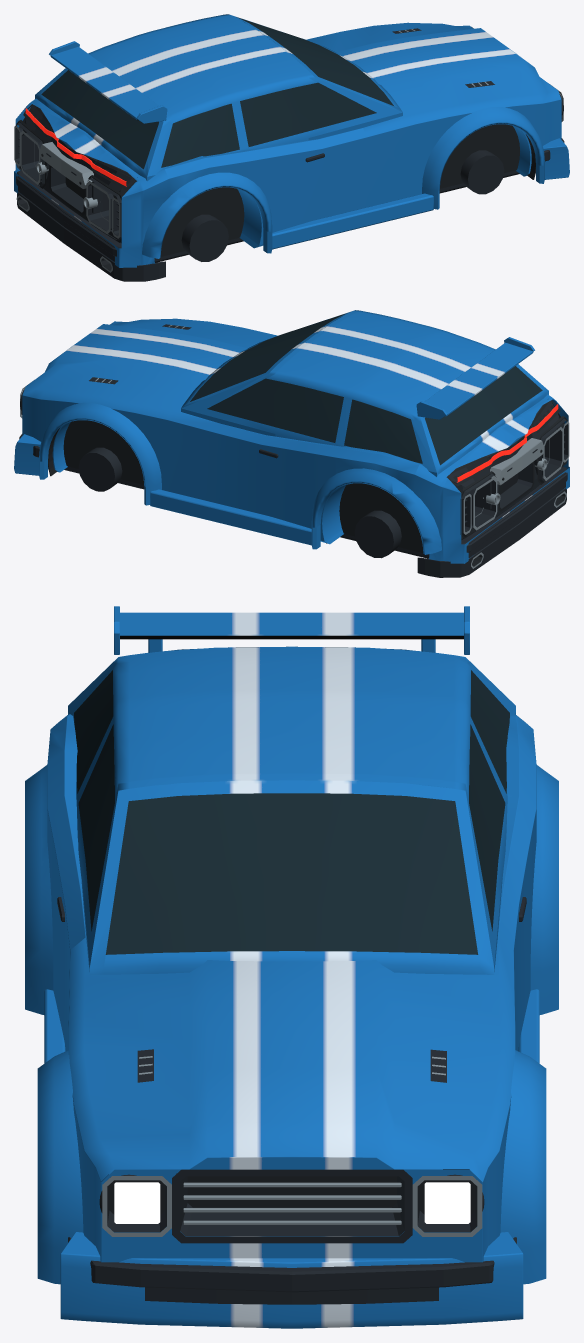
The model's file is fennec-body.glb.
3 views of the same model, one above another, from view 1: azimuth 30°, elevation 25°; view 2: azimuth 150°, elevation 25°; view 3: azimuth 270°, elevation 25° (orthographic). The views are drawn at different scales.
Parts seen in each view (by area): view 1: body-paint, body-details; view 2: body-paint, body-details; view 3: body-paint, body-details.
Boxes of the visible parts, left/top/right/bottom form: body-paint: left=14, top=14, right=569, bottom=267; body-details: left=14, top=17, right=564, bottom=281; body-paint: left=14, top=310, right=569, bottom=563; body-details: left=19, top=313, right=569, bottom=577; body-paint: left=25, top=606, right=558, bottom=1328; body-details: left=57, top=670, right=526, bottom=1304.
Size of the model in its own units: 1.42 by 0.4629 by 0.708.
Materials: 7 (1 with a texture image).
